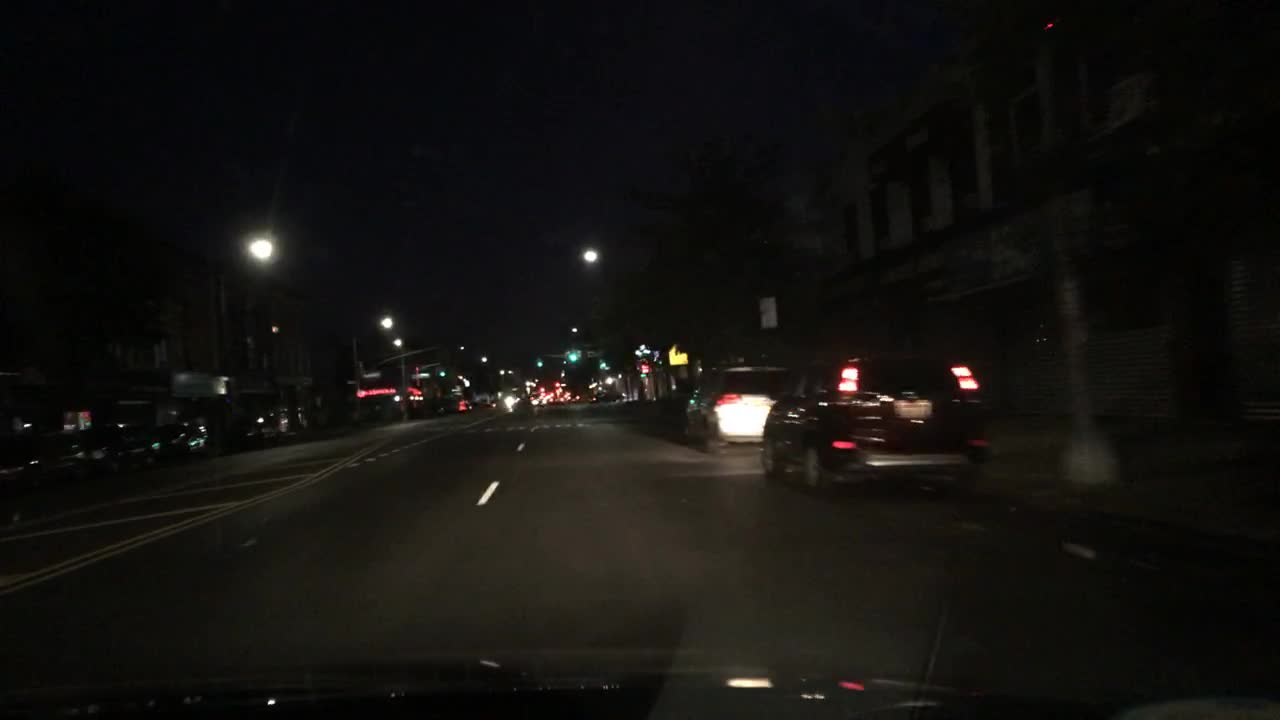car: (760, 348, 991, 495), (686, 363, 798, 454), (0, 428, 114, 502), (115, 422, 163, 473), (153, 421, 190, 458), (237, 412, 269, 448), (185, 415, 212, 456), (268, 407, 293, 441), (469, 398, 499, 411), (448, 398, 471, 414), (547, 393, 566, 406), (565, 392, 584, 404), (528, 397, 547, 408)
traffic light: (566, 350, 581, 363), (436, 369, 448, 380), (598, 361, 609, 371), (535, 359, 544, 370)
traffic sign: (757, 297, 777, 331), (667, 344, 691, 365), (408, 370, 432, 381), (585, 349, 604, 360), (362, 371, 381, 380), (346, 377, 359, 387)
